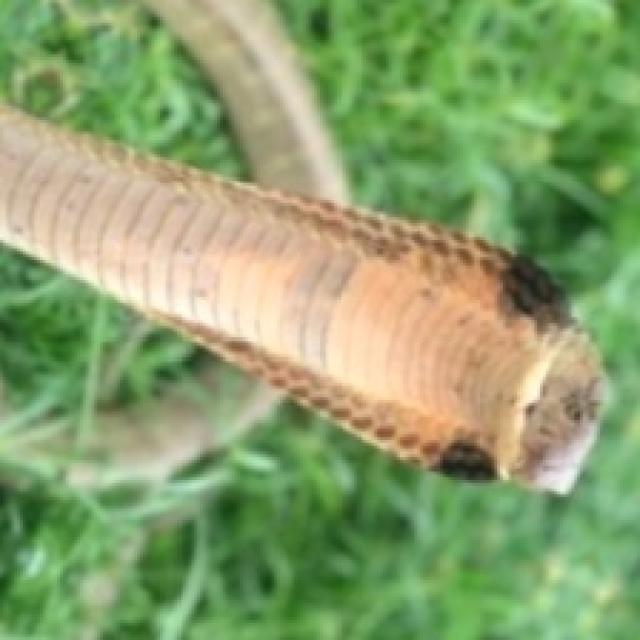king cobra: (0, 0, 600, 491)
